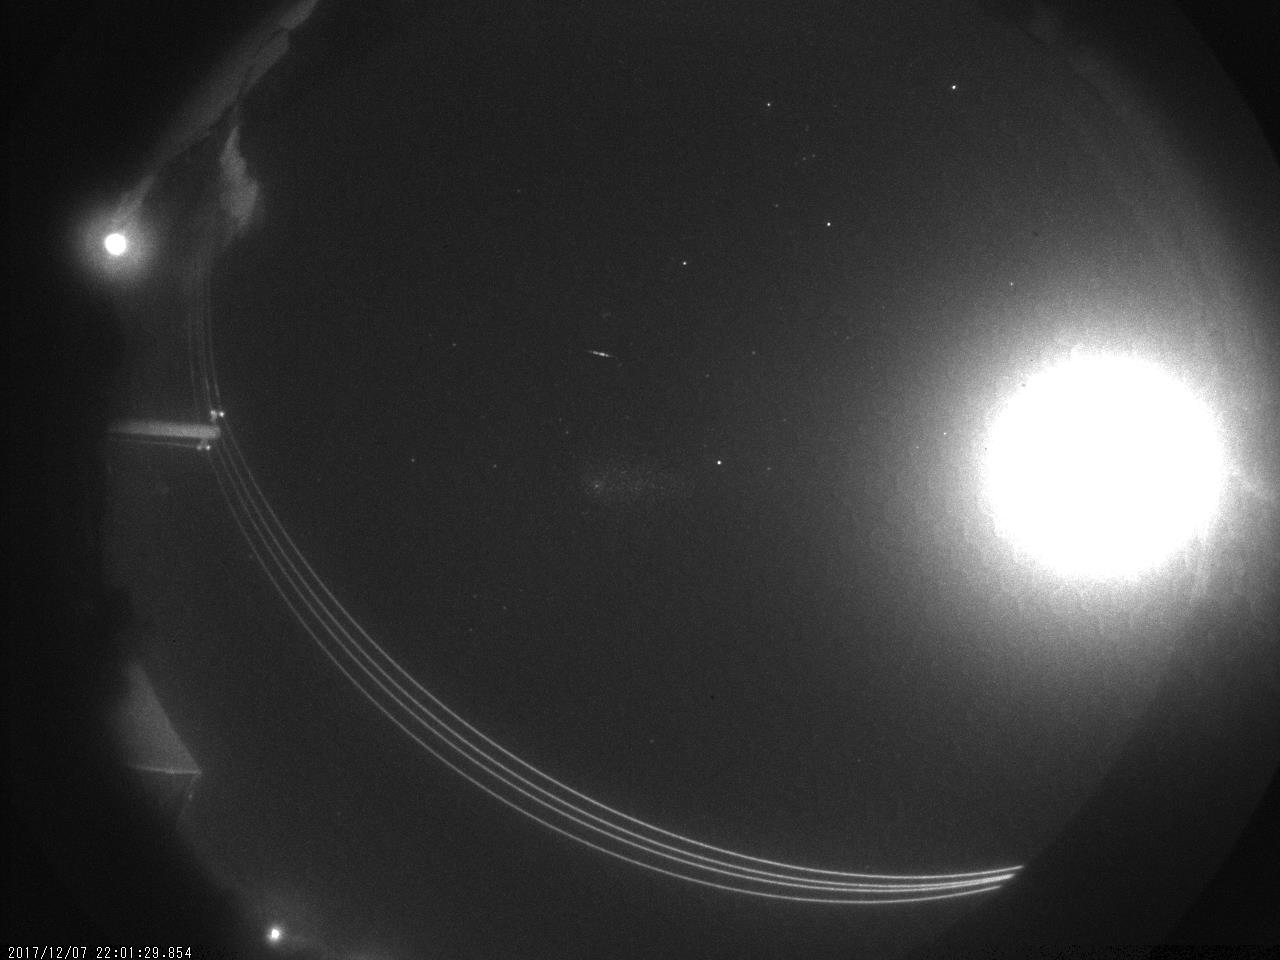meteor: (580, 340, 616, 366)
